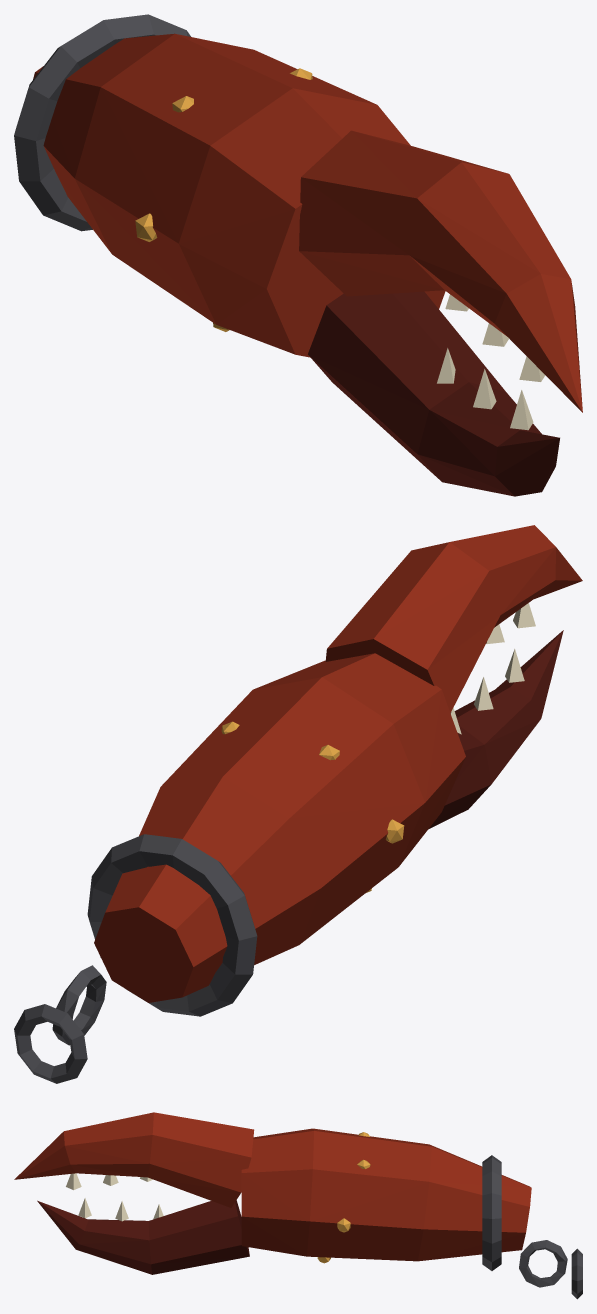
Rendered from TrophyWarden.obj.
3 views of the same model, one above another, from view 1: azimuth 30°, elevation 25°; view 2: azimuth 150°, elevation 25°; view 3: azimuth 270°, elevation 25° (orthographic). The views are drawn at different scales.
Visible parts, largest first — view 1: TrophyWarden; view 2: TrophyWarden; view 3: TrophyWarden.
Boxes of the visible parts, bbox=[...] form: TrophyWarden: bbox=[14, 14, 582, 496]; TrophyWarden: bbox=[14, 525, 582, 1083]; TrophyWarden: bbox=[14, 1112, 582, 1299].
Size of the model in its own units: 0.255 by 0.3341 by 1.
